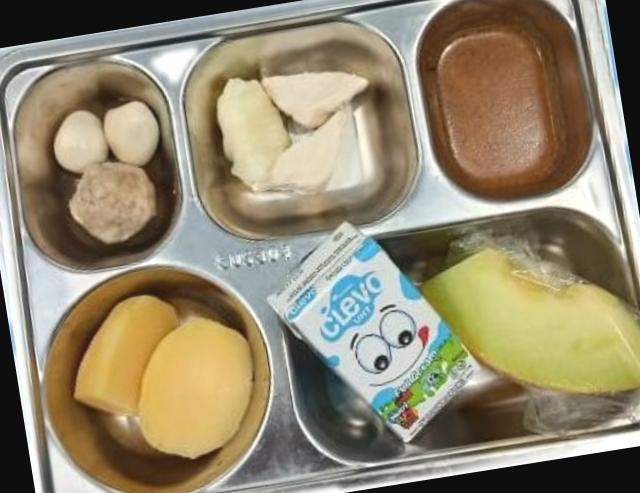bakso: (69, 162, 158, 244)
buah: (422, 249, 639, 394)
kentang: (74, 295, 254, 458)
sayur: (217, 78, 290, 190)
susu: (268, 223, 478, 442)
tahu: (265, 72, 369, 194)
telur: (53, 101, 160, 174)
